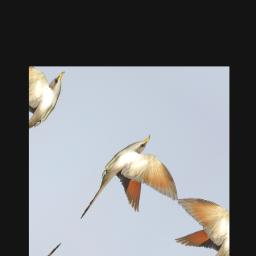Cuckoo: (70, 127, 199, 256)
